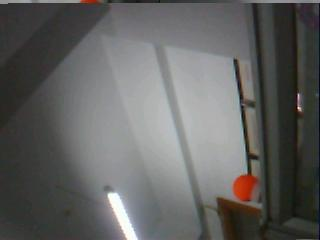oball: (233, 174, 260, 201)
